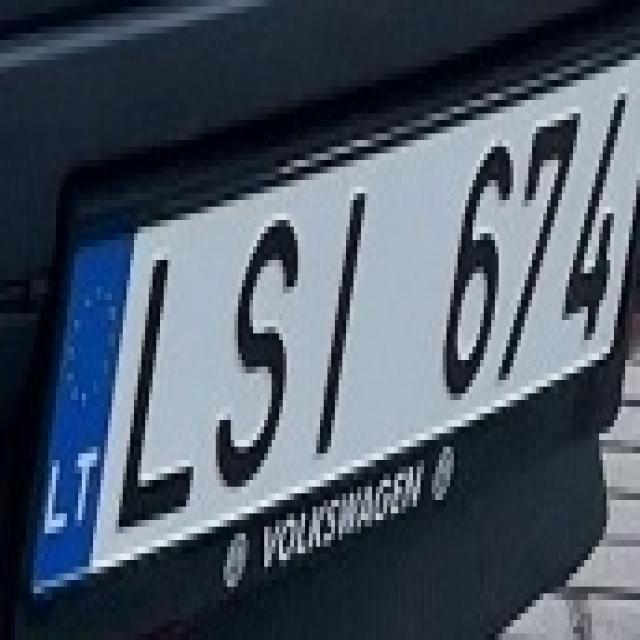1: (294, 167, 379, 460)
4: (547, 73, 633, 360)
6: (424, 113, 517, 400)
7: (488, 93, 580, 380)
L: (100, 234, 208, 534)
S: (197, 193, 305, 487)
